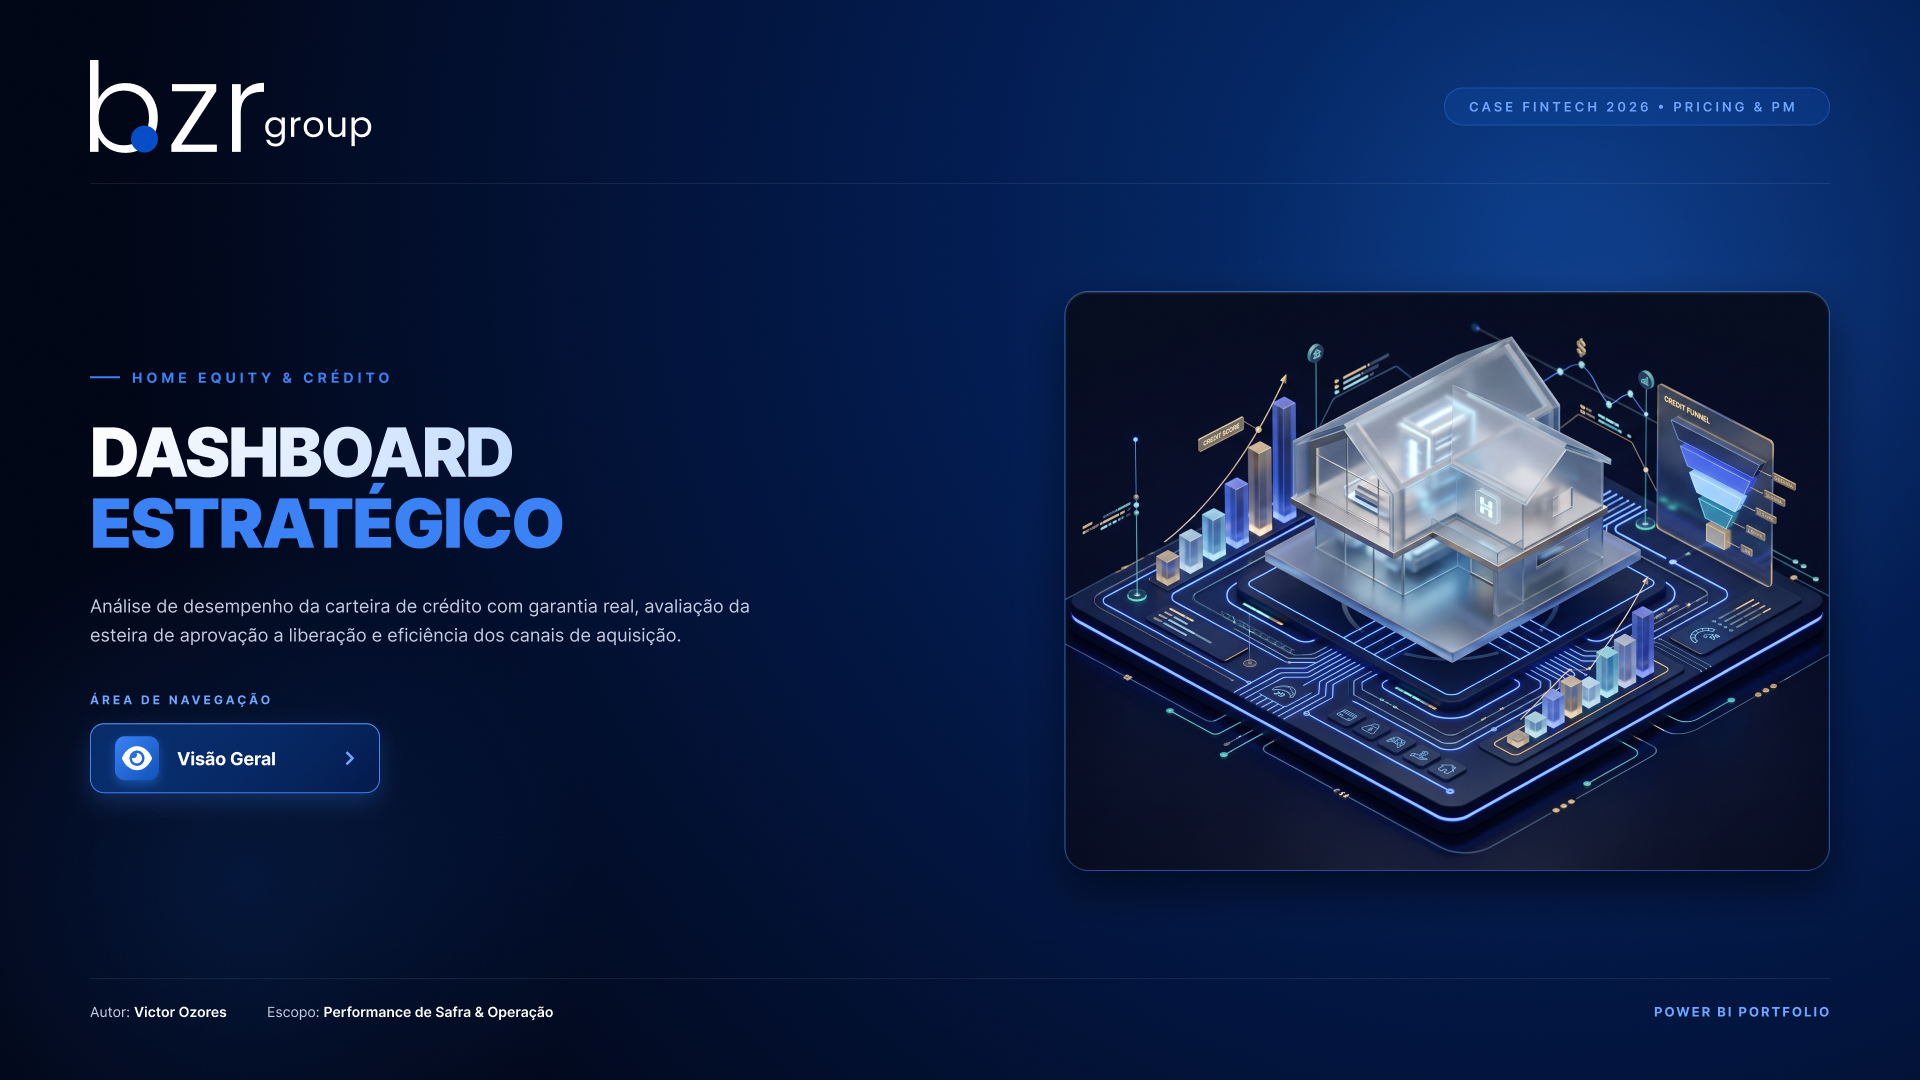

What the dashboard file says about the page in this screenshot:
{"tool":"powerbi","page":{"name":"Home","canvas":[1920,1080],"ordinal":0},"visuals":[{"type":"group","id":"g1","title":"g_navegação","box":[81.2,707.7,325.6,100.5],"z":0},{"type":"actionButton","title":"Visão Geral","box":[81.2,707.7,325.6,100.5],"z":5000,"group":"g1"}]}

Visuals, with their boxes in screenshot pixels (x1, y1, x2, y2), scaled from the page's 1920x1080 canvas onto the 1920x1080 screenshot:
"g_navegação" group: <box>81,708,407,808</box>
"Visão Geral" actionButton: <box>81,708,407,808</box>
